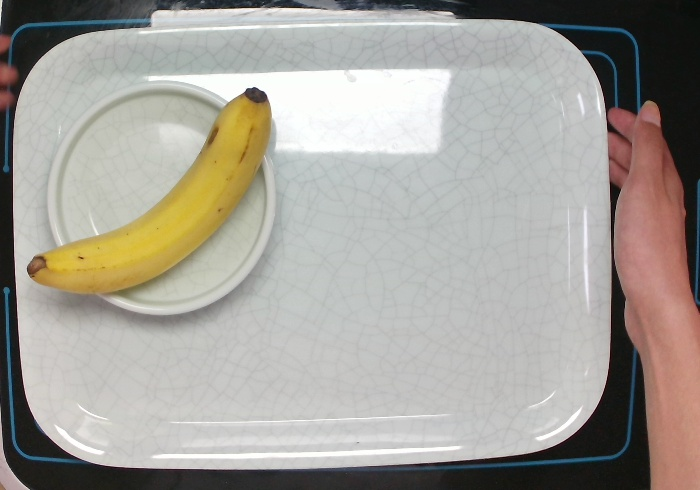JYsf-Xiao_Yuan_Pan: (41, 75, 283, 319)
